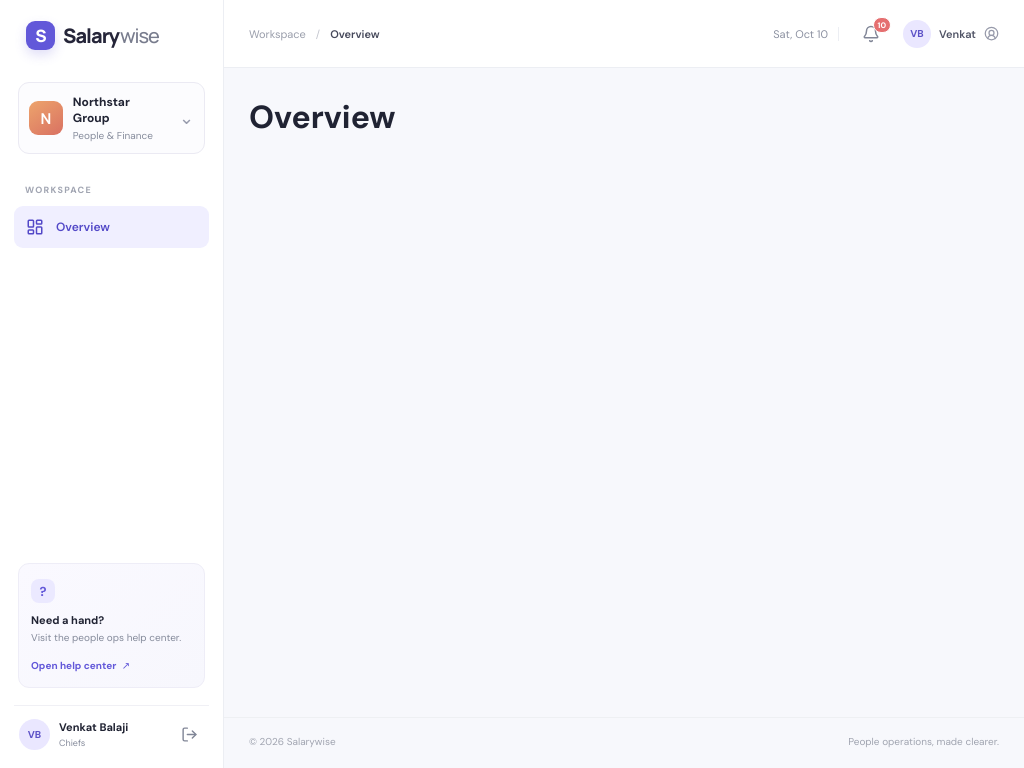
Scenario: dashboard profile, help, and notifications › opens the notifications popover and marks all ten items as read
This screenshot has width=1024, height=768.
Click the button named "Notifications, 10 unread".
click(871, 34)  # box [854,16,888,50]
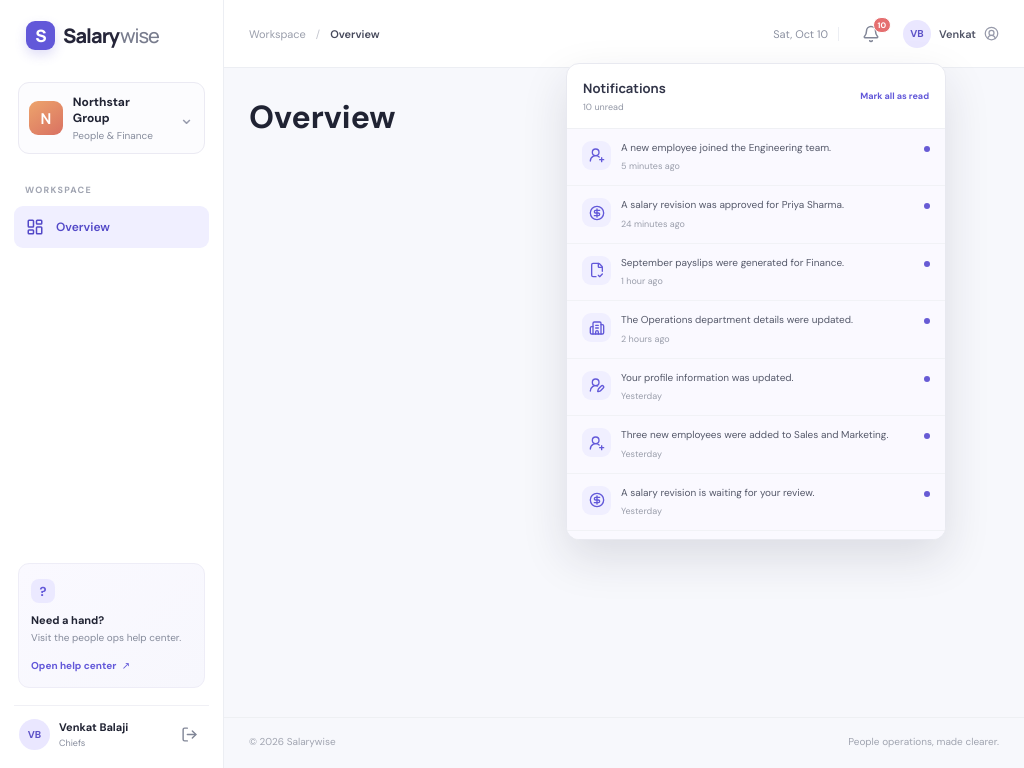
Expected: the text "September payslips were generated for Finance." is shown, [621,256,844,269]
Click the button "Mark all as read".
click(895, 96)  # box [860,84,929,106]
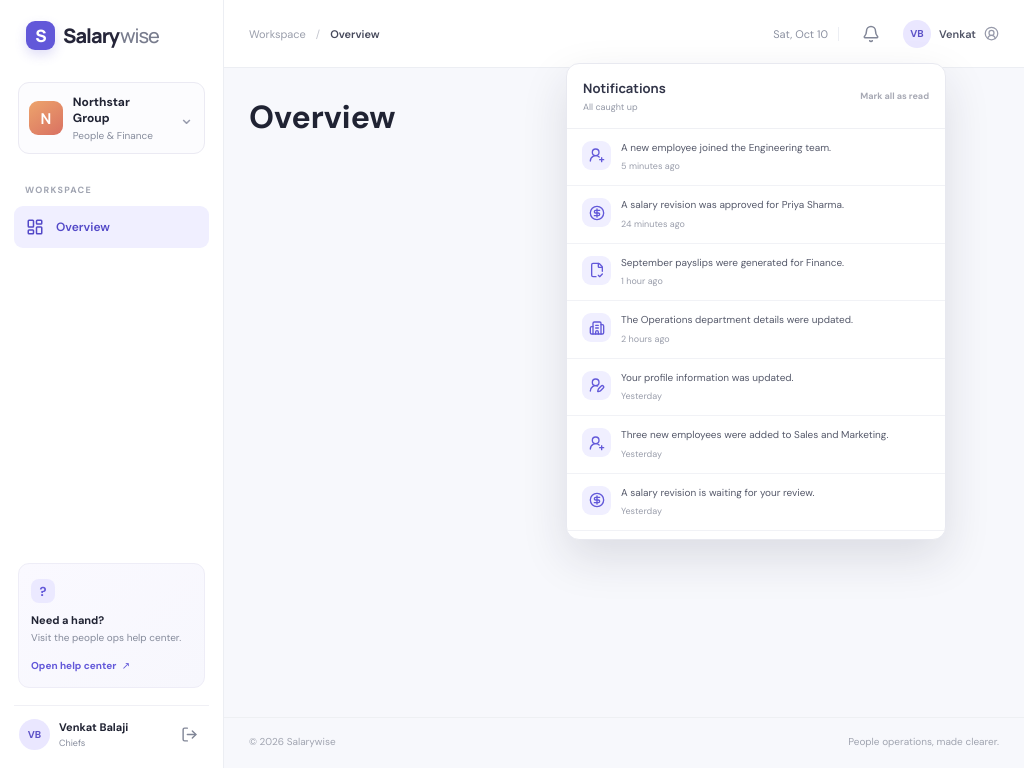
Expected: the button named "Notifications, no unread notifications" is shown, [854,16,888,50]
Expected: the text "All caught up" is shown, [583,100,638,112]
Expected: the button "Mark all as read" is disabled, [860,84,929,106]
